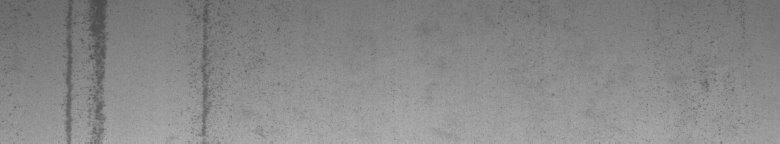hd: (185, 4, 280, 136)
